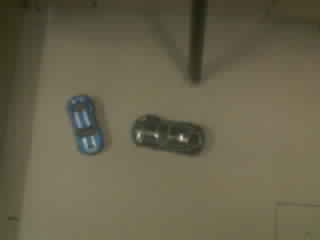Car: (133, 115, 204, 153), (67, 95, 103, 152)
